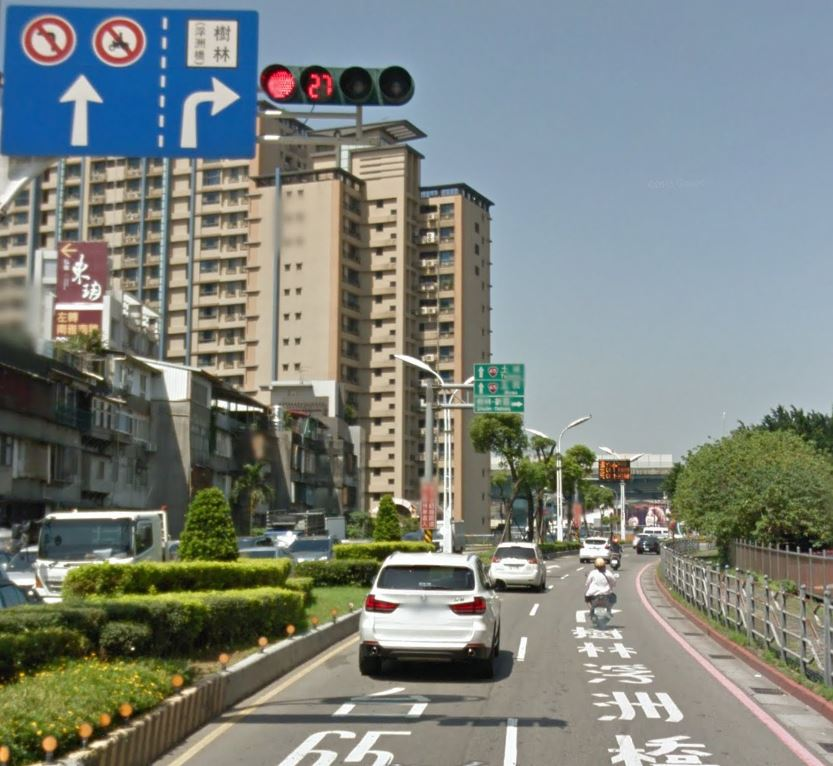Traffic_light_red: (258, 62, 414, 110)
